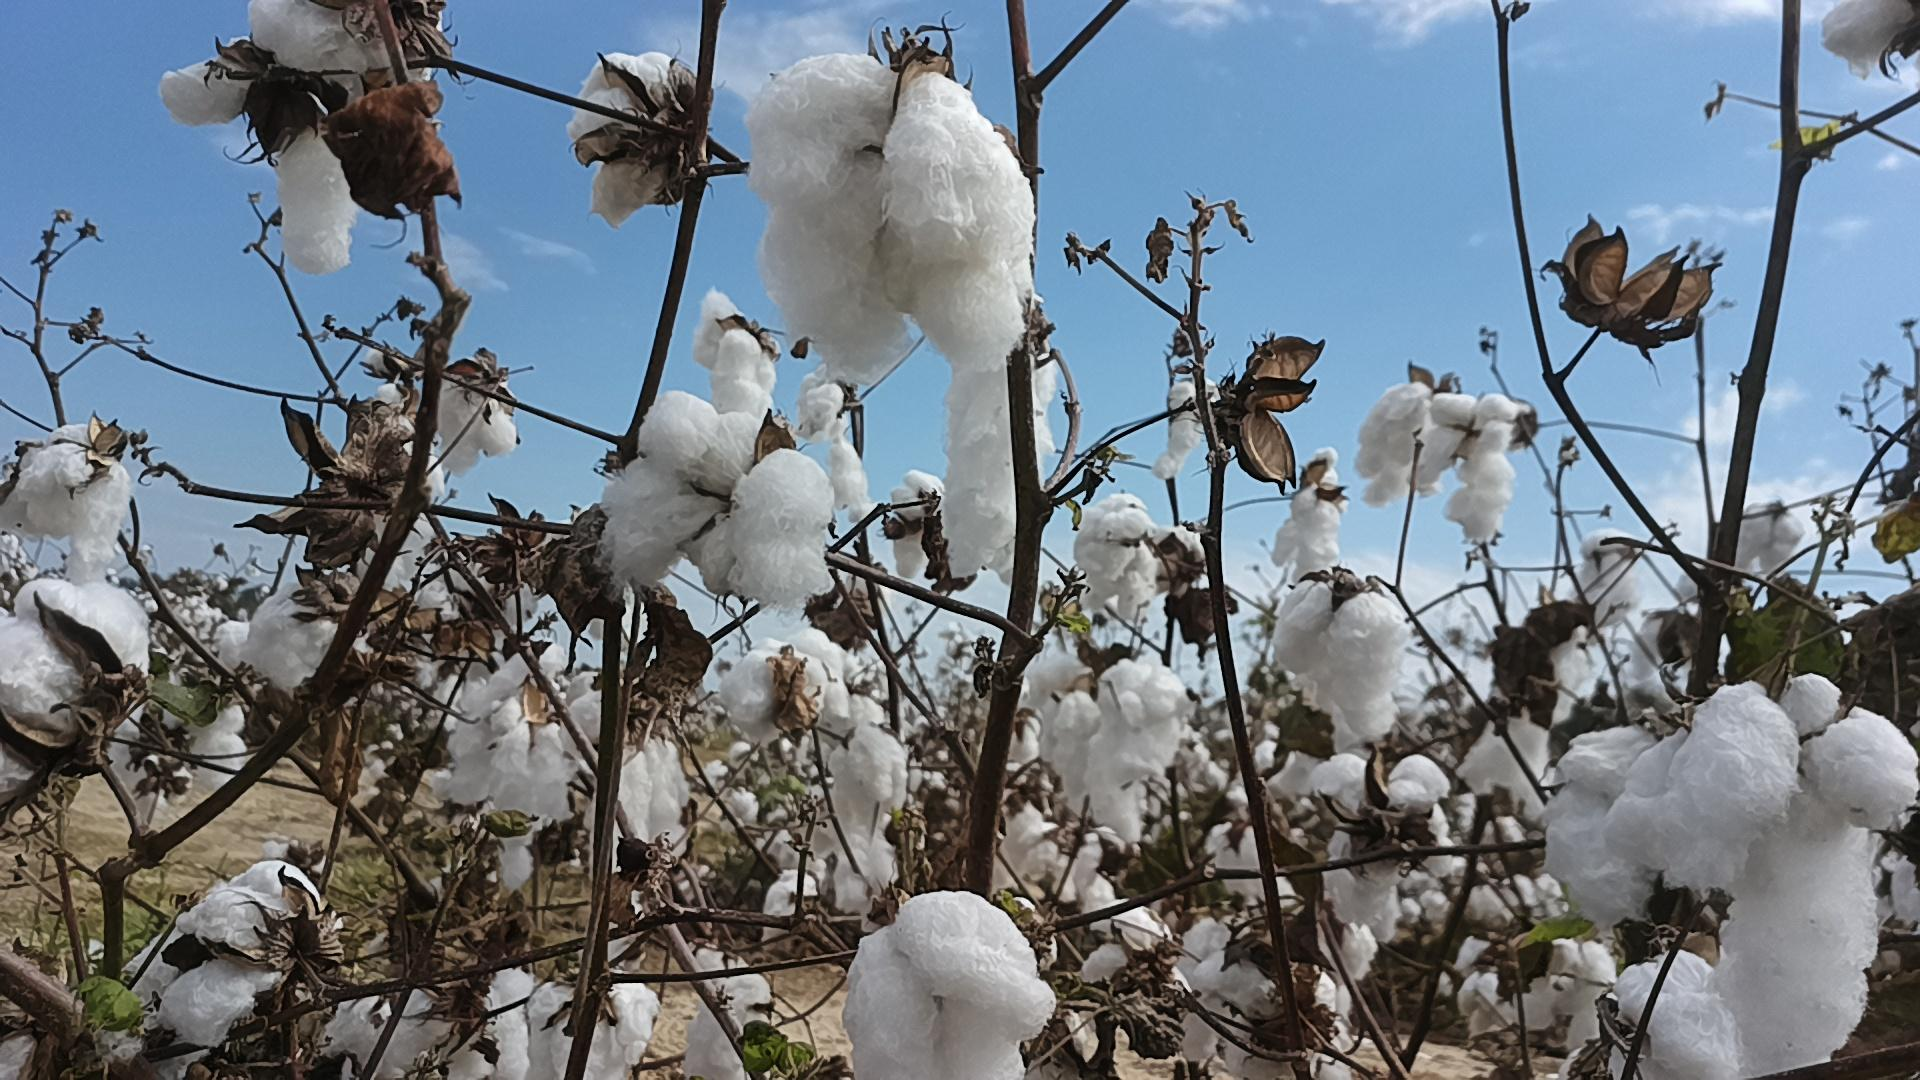cotton_ready: (1607, 670, 1920, 1080), (744, 53, 1038, 381), (158, 0, 440, 276), (601, 396, 837, 616), (724, 629, 910, 909), (125, 856, 340, 1063), (844, 887, 1058, 1080), (0, 575, 158, 764), (943, 326, 1056, 578), (1538, 717, 1671, 931), (1050, 655, 1188, 847), (1309, 750, 1456, 928), (440, 702, 578, 890), (1564, 945, 1750, 1080), (1270, 578, 1414, 742), (352, 384, 451, 612), (0, 421, 133, 587), (1191, 951, 1350, 1080), (574, 51, 692, 223), (1410, 384, 1520, 549), (107, 694, 253, 800), (585, 733, 690, 880), (212, 583, 343, 694), (524, 976, 661, 1080), (682, 943, 778, 1080), (1076, 488, 1163, 625), (336, 982, 458, 1080), (1356, 385, 1444, 516), (446, 960, 538, 1080), (695, 286, 775, 417), (434, 385, 526, 476), (1818, 0, 1920, 80), (555, 667, 625, 757)
